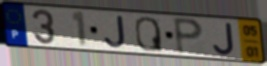1: (70, 10, 88, 49)
3: (31, 8, 57, 46)
J: (212, 21, 237, 57), (103, 14, 128, 50)
P: (171, 15, 205, 56)
Q: (134, 16, 166, 53)
